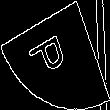P_NE: (32, 27, 78, 83)
